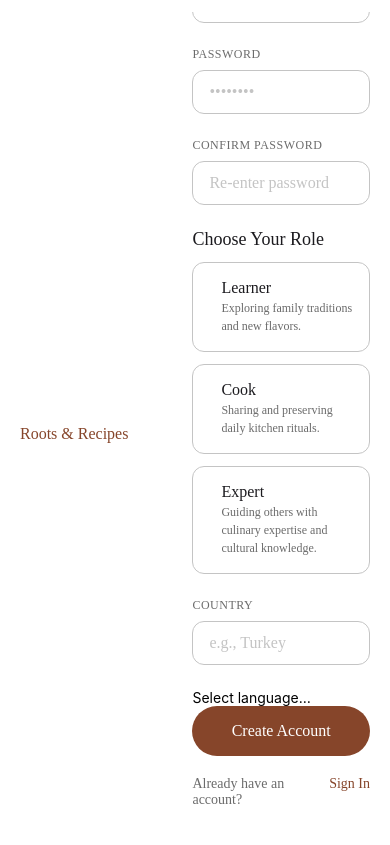
Test case: RegisterScreen › validation › shows required errors and does not submit on empty form
The width and height of the screenshot is (390, 845).
(page scrolled)
Click the text "Create Account": (281, 731) [232, 722, 331, 740]
(page scrolled)
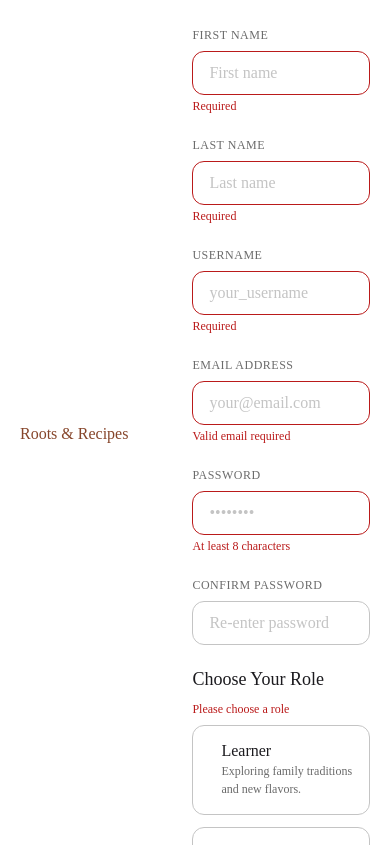
Expected: the text "Required" below "First Name" is shown, [192, 99, 236, 113]
